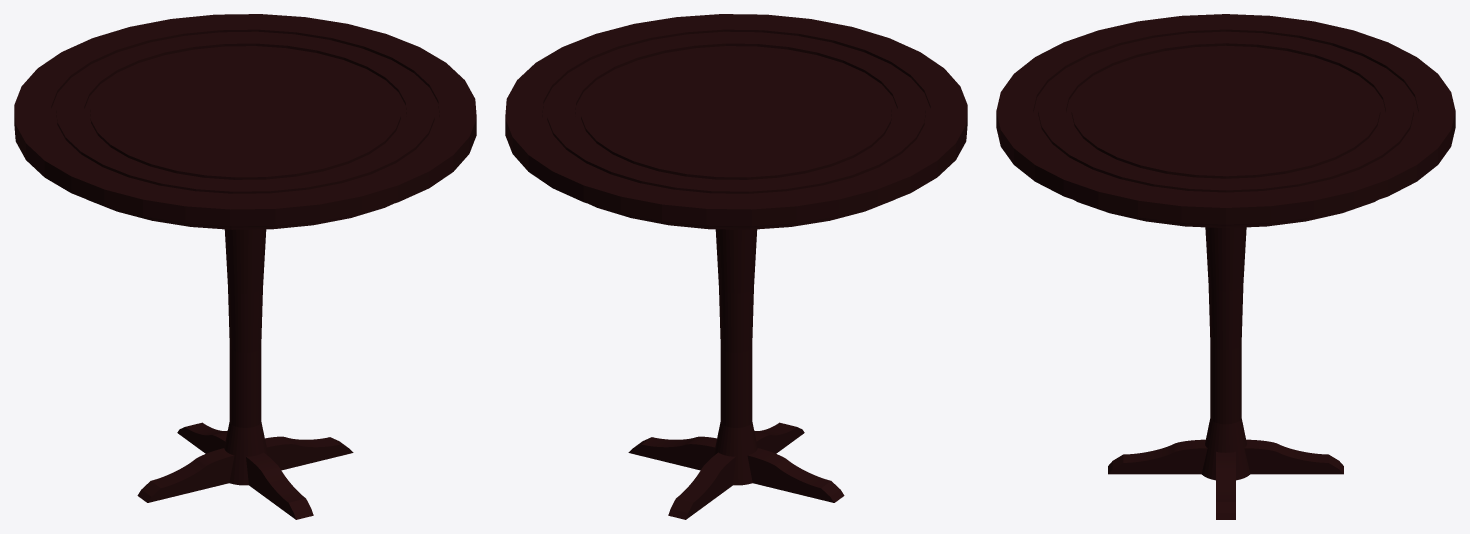
File: round table.fbx
The picture shows the model from 3 angles, left to right: view 1: azimuth 30°, elevation 25°; view 2: azimuth 150°, elevation 25°; view 3: azimuth 270°, elevation 25°; orthographic projection.
Visible parts, largest first — view 1: Cylinder, Cube, Cube.001, Cube.002, Cube.003; view 2: Cylinder, Cube, Cube.003, Cube.002, Cube.001; view 3: Cylinder, Cube.001, Cube.003, Cube.002.
Boxes of the visible parts, x1,y1,x2,y2 form: Cylinder: (14, 14, 476, 485); Cube: (137, 448, 234, 502); Cube.001: (246, 452, 313, 519); Cube.002: (265, 436, 353, 470); Cube.003: (177, 422, 227, 453); Cylinder: (505, 14, 967, 485); Cube: (747, 448, 844, 502); Cube.003: (668, 452, 735, 519); Cube.002: (628, 436, 716, 470); Cube.001: (754, 422, 804, 453); Cylinder: (996, 14, 1455, 480); Cube.001: (1108, 439, 1207, 474); Cube.003: (1244, 439, 1343, 474); Cube.002: (1216, 451, 1235, 519).
Bounding box in the file's own units: 489 × 422 × 489.
